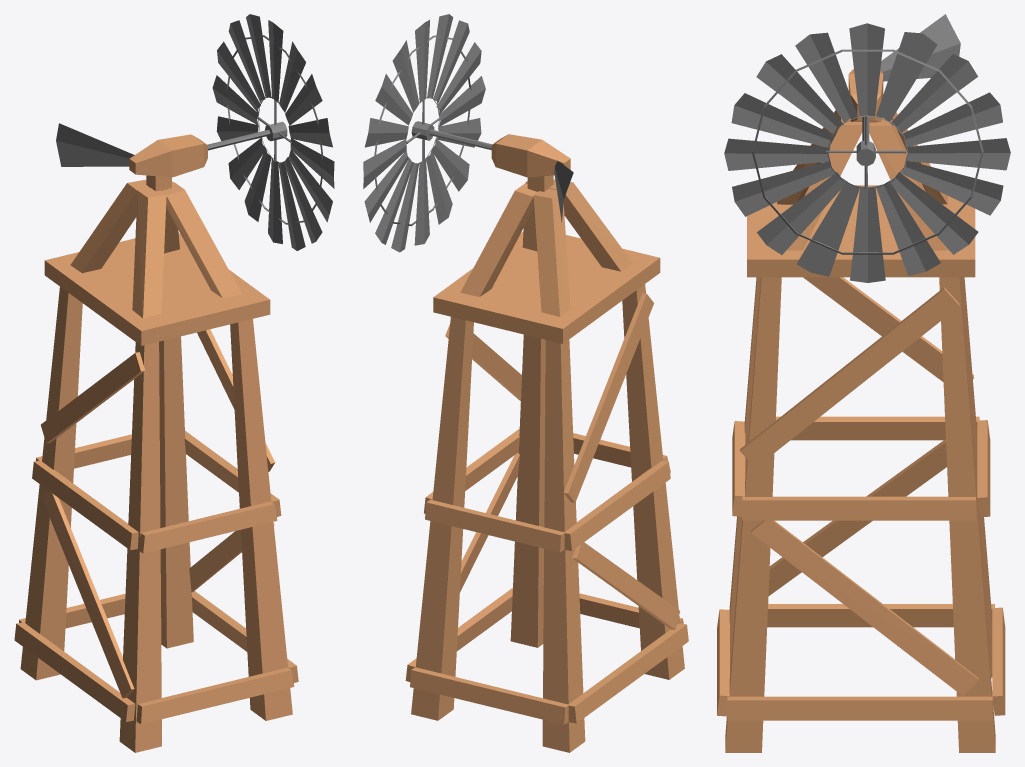
Rendered from catavento.glb.
3 views of the same model, side by side, from view 1: azimuth 30°, elevation 25°; view 2: azimuth 150°, elevation 25°; view 3: azimuth 270°, elevation 25° (orthographic). The views are drawn at different scales.
Visible parts, largest first — view 1: Object_18, Object_6; view 2: Object_18, Object_6; view 3: Object_18, Object_6.
Part boxes in pixels (box(x1,y1,x2,y2)): Object_18: box(14, 134, 298, 752); Object_6: box(56, 14, 334, 250); Object_18: box(405, 134, 688, 752); Object_6: box(363, 14, 573, 252); Object_18: box(717, 69, 1005, 752); Object_6: box(724, 14, 1010, 282).
Size of the model in its own units: 16.32 by 46.38 by 16.39.
